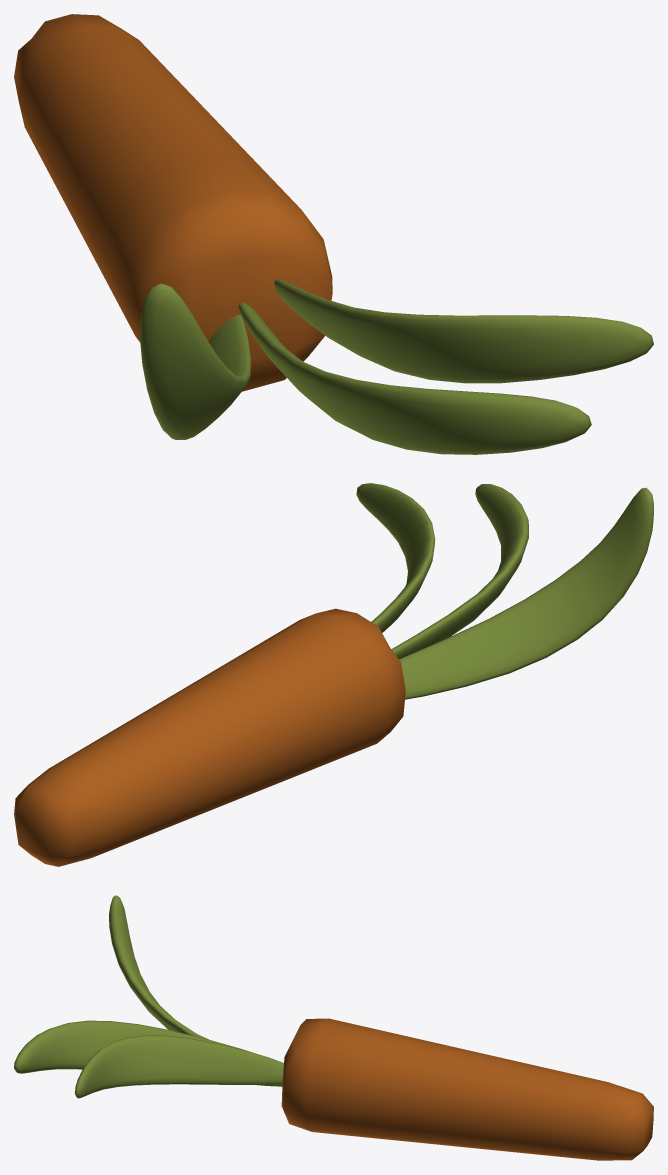
File: Carrot.fbx
The picture shows the model from 3 angles, top to bottom: view 1: azimuth 30°, elevation 25°; view 2: azimuth 150°, elevation 25°; view 3: azimuth 270°, elevation 25°; orthographic projection. The views are drawn at different scales.
Visible parts, largest first — view 1: Carrot; view 2: Carrot; view 3: Carrot.
Boxes of the visible parts, bbox=[...] form: Carrot: bbox=[14, 14, 653, 454]; Carrot: bbox=[14, 483, 653, 866]; Carrot: bbox=[14, 895, 653, 1160].
Bounding box in the file's own units: 85.61 × 52.47 × 186.
